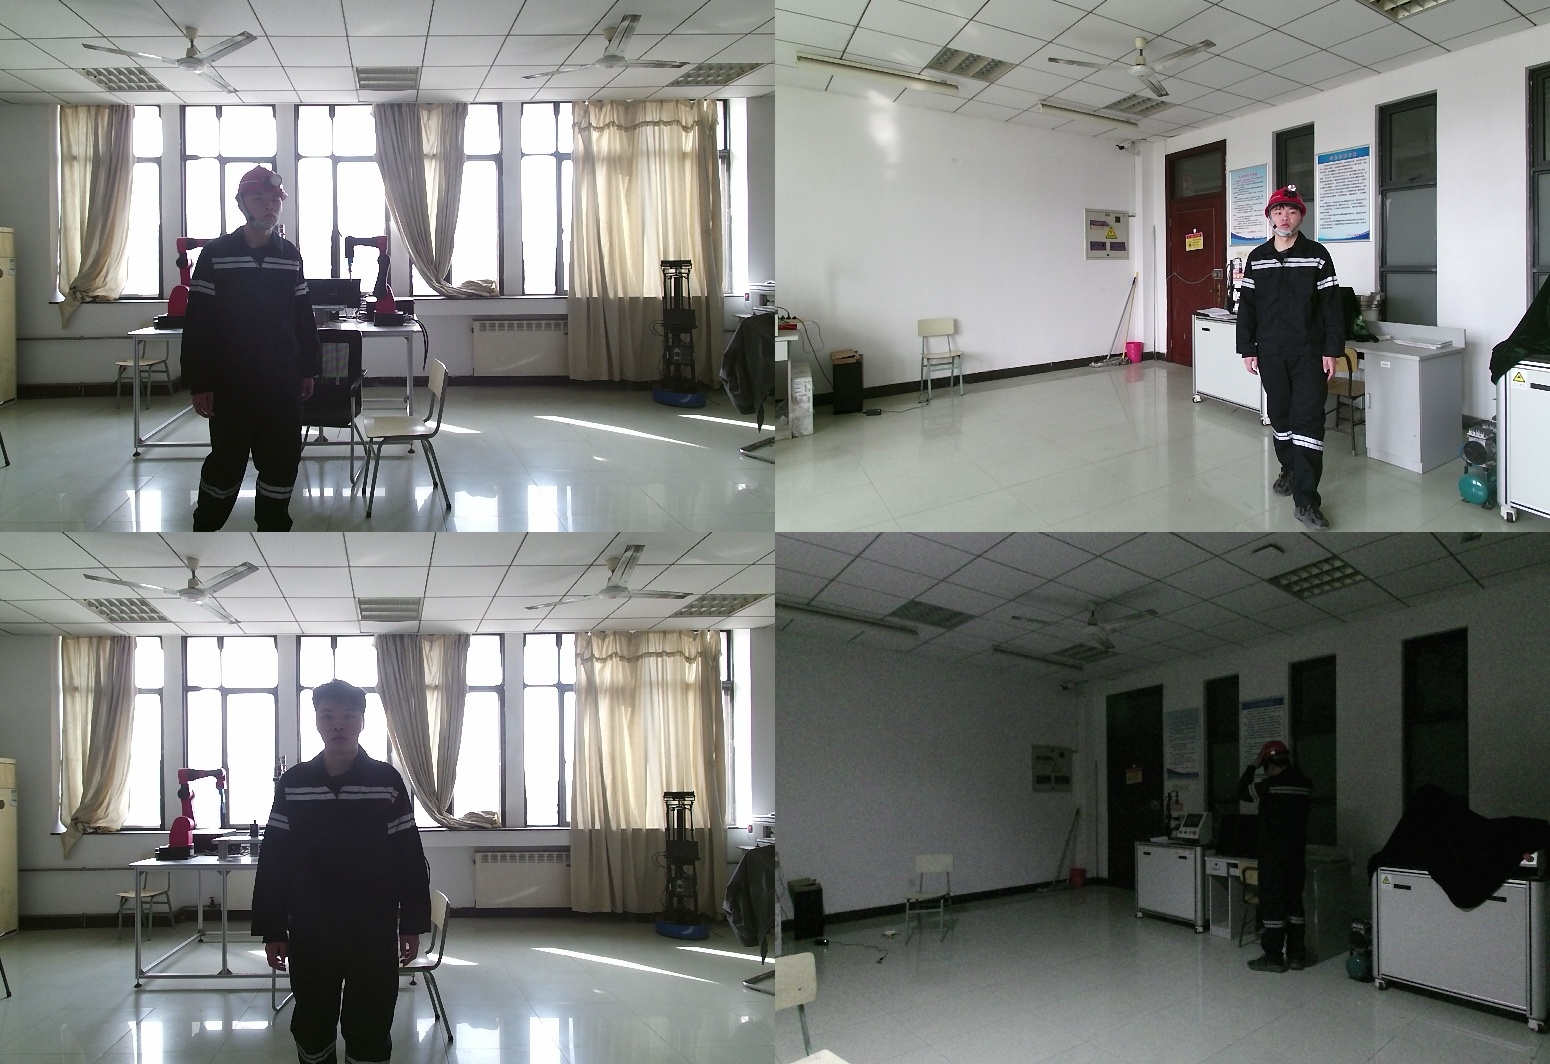person: (255, 681, 442, 1064), (183, 167, 328, 532), (1243, 188, 1356, 528), (1235, 742, 1334, 972)
